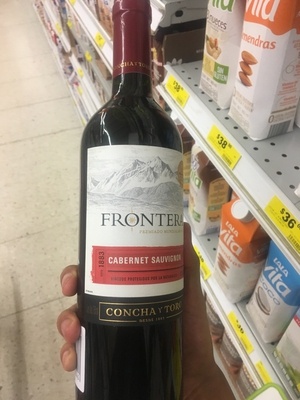frontera cabernet sauvignon: (66, 26, 207, 400)
